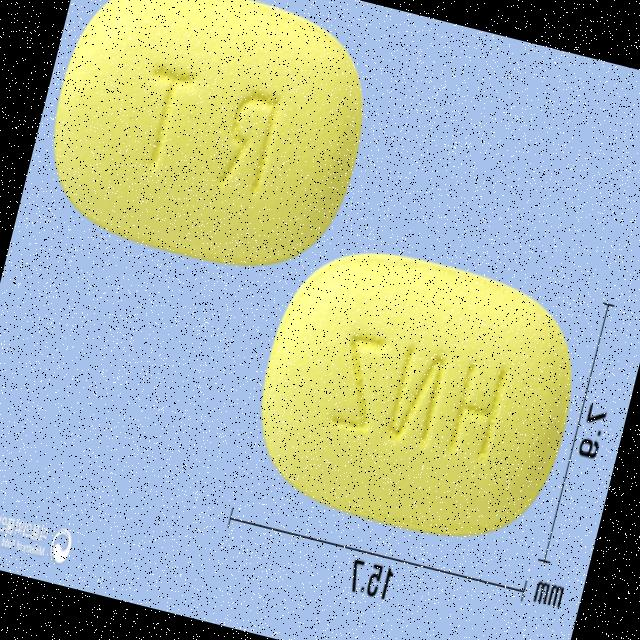Claniz - 500mg: (231, 223, 601, 565), (22, 0, 390, 292)
